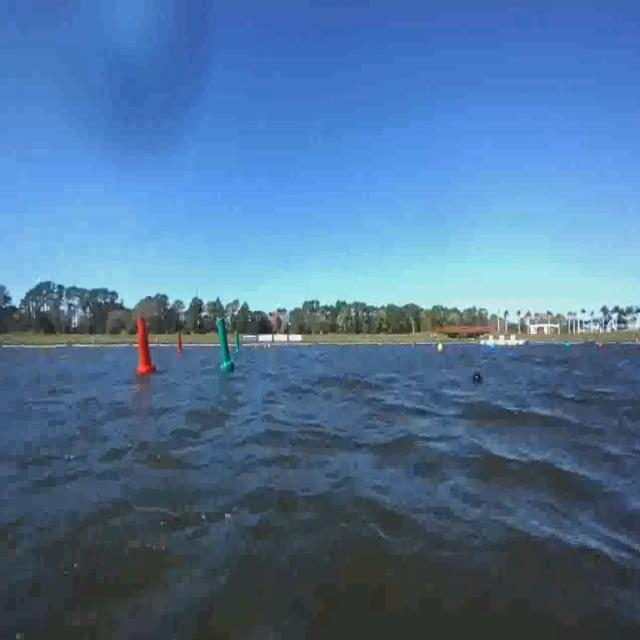black-buoy: (472, 370, 482, 387)
green-buoy: (565, 342, 573, 352)
green-column-buoy: (216, 320, 233, 372), (236, 335, 242, 351)
red-column-buoy: (135, 318, 156, 376), (177, 335, 184, 355)
yellow-buoy: (436, 342, 444, 356)
